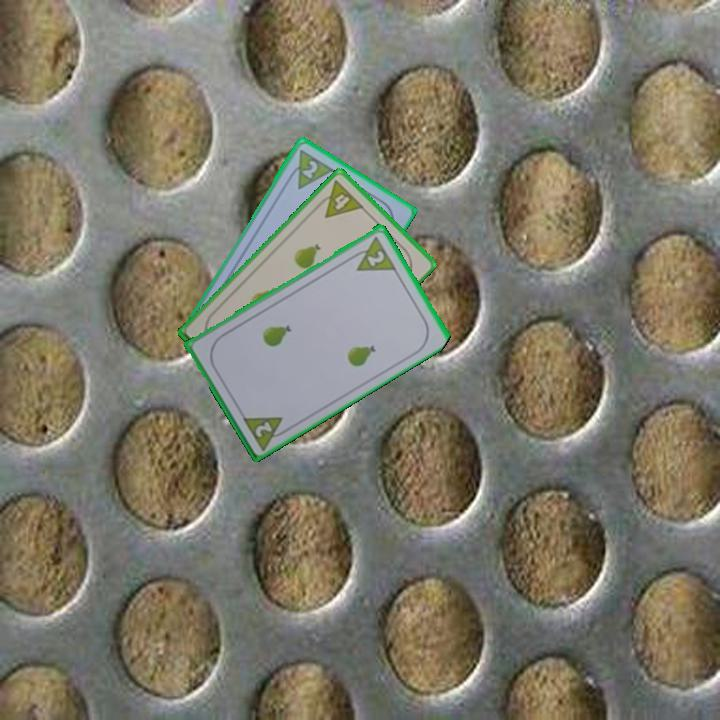2p: (283, 145, 336, 192), (346, 232, 399, 274), (238, 412, 292, 452)
4p: (312, 176, 366, 221)
